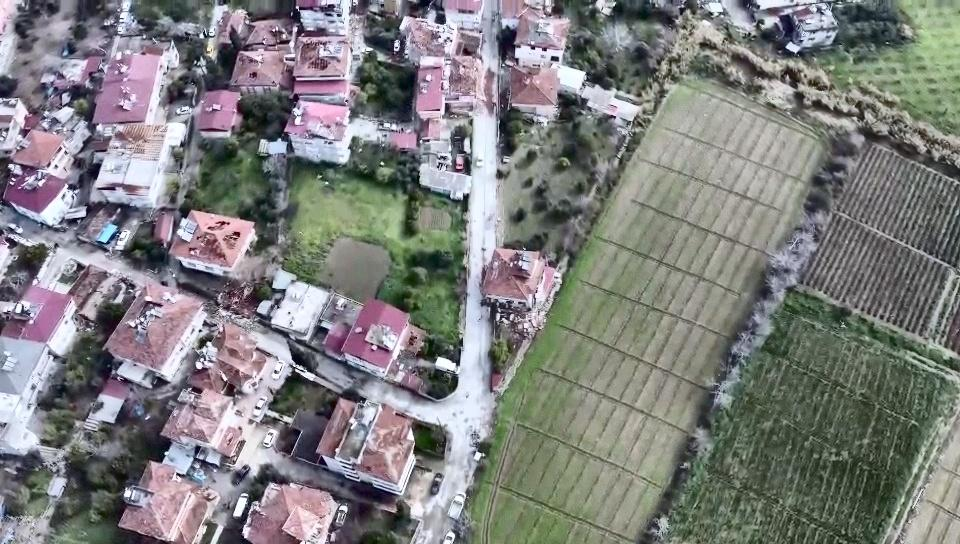kapali: (131, 268, 271, 350), (473, 54, 498, 135)
